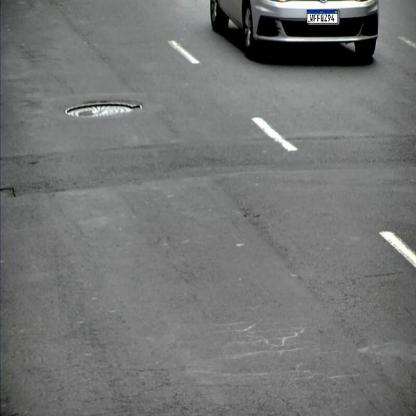PlacaM: (307, 10, 338, 23)
